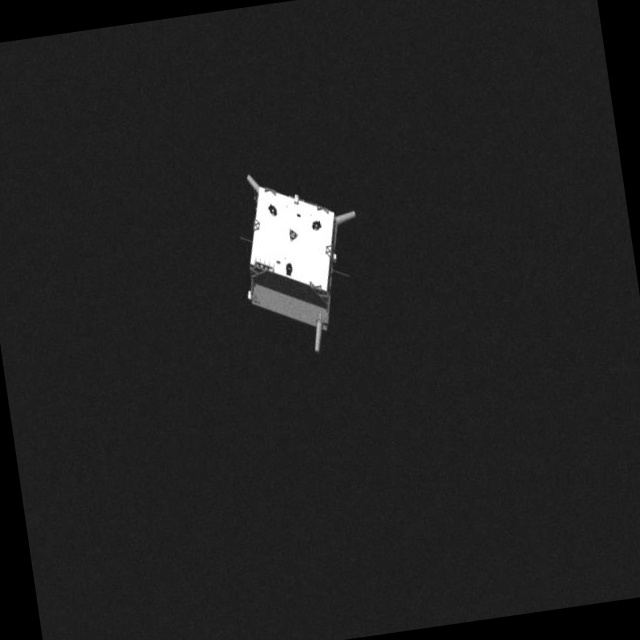satellite: (224, 153, 384, 374)
